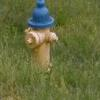Hydrant: (19, 7, 61, 78)
